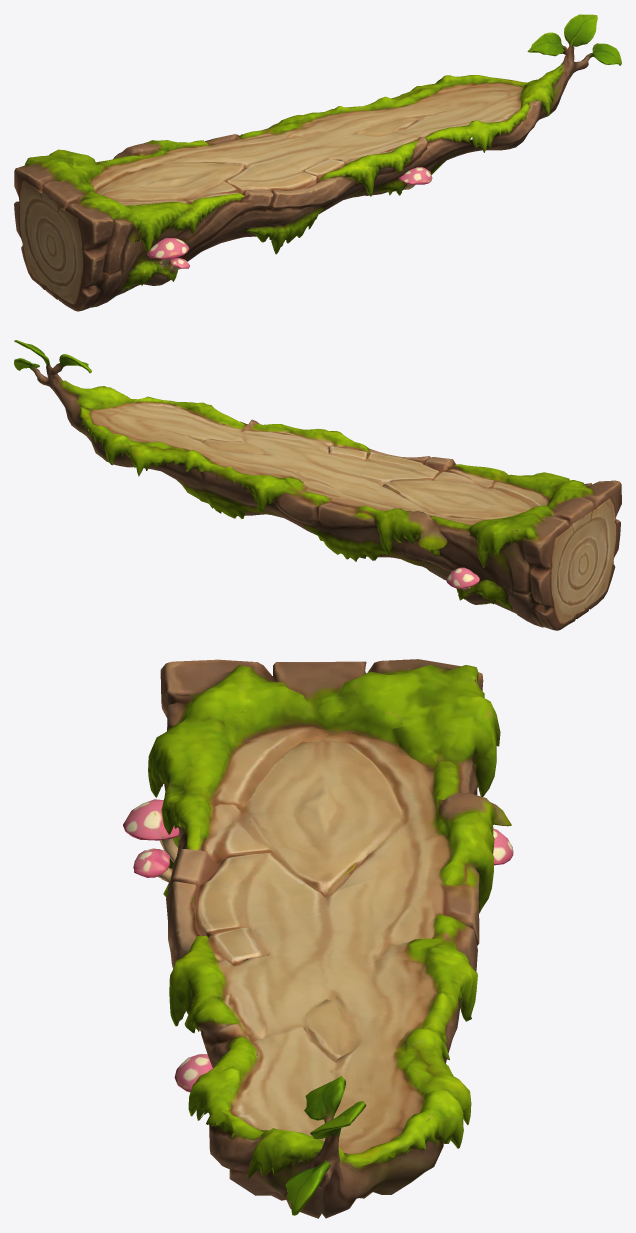
The model's file is branch_platform.glb.
3 renders of one model, top to bottom at view 1: azimuth 30°, elevation 25°; view 2: azimuth 150°, elevation 25°; view 3: azimuth 270°, elevation 25°, orthographic. The views are drawn at different scales.
Size of what is drawn, in the model's own units: 4.12 by 0.9997 by 1.23.
Materials: 1 (1 with a texture image).
